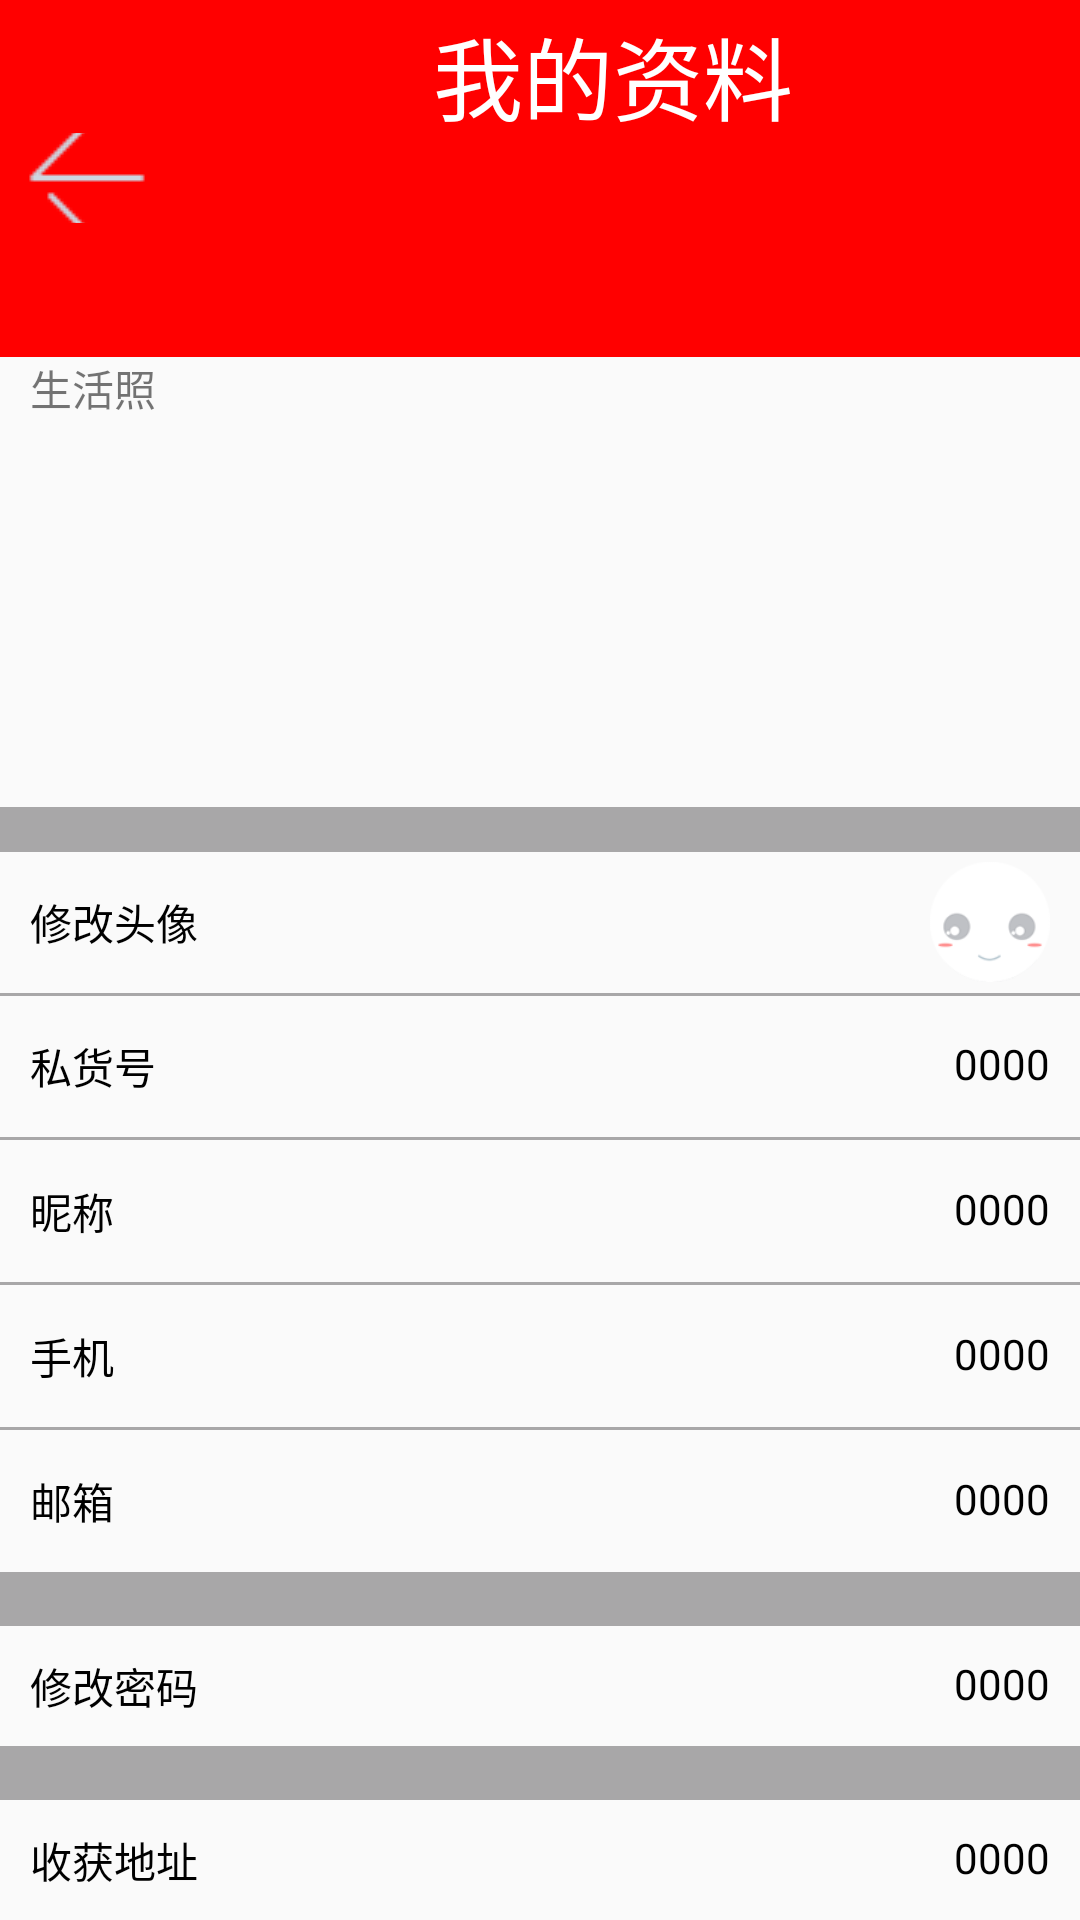

Point at icon controls on the screen. Image size 1080 × 1920, points as (x=x, y=y).
back on: (x=87, y=178)
